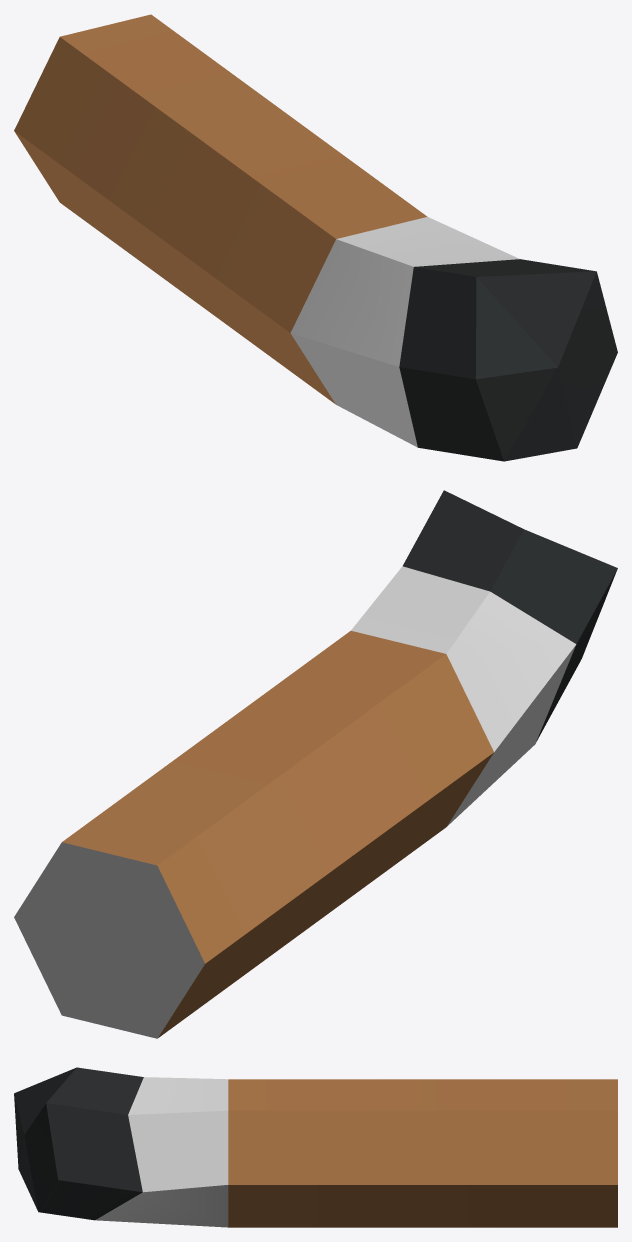
The model's file is SM_Prop_Cigarette_02_719.obj.
3 renders of one model, top to bottom at view 1: azimuth 30°, elevation 25°; view 2: azimuth 150°, elevation 25°; view 3: azimuth 270°, elevation 25°, orthographic. The views are drawn at different scales.
Parts seen in each view (by area): view 1: SM_Prop_Cigarette_02_0; view 2: SM_Prop_Cigarette_02_0; view 3: SM_Prop_Cigarette_02_0.
Boxes of the visible parts, bbox=[...] form: SM_Prop_Cigarette_02_0: bbox=[14, 14, 617, 461]; SM_Prop_Cigarette_02_0: bbox=[14, 490, 617, 1038]; SM_Prop_Cigarette_02_0: bbox=[14, 1067, 617, 1227].
Size of the model in its own units: 0.0179 by 0.0164 by 0.0641.
1 material, 1 textured.
